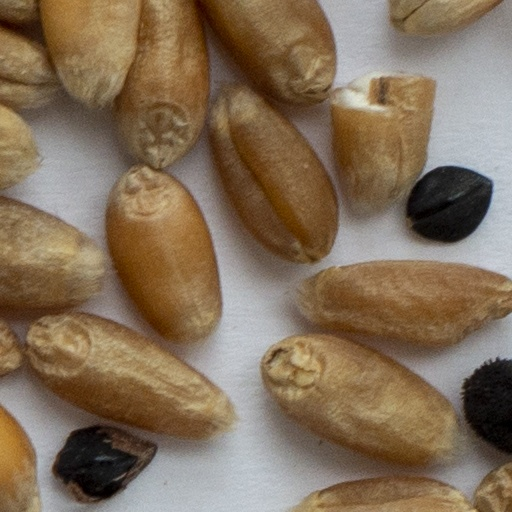Agrostemma-poly: (464, 361, 511, 453)
Fallopia-Сonvolvulus-poly: (55, 423, 155, 501), (408, 166, 491, 241)
Wheat-grain-damaged-poly: (335, 71, 434, 216)
Wheat-grain-poly: (389, 0, 501, 34)
